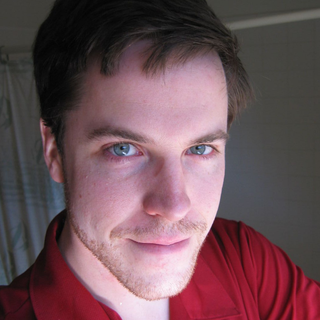eye: (97, 139, 146, 164), (179, 139, 223, 163)
